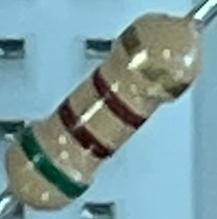Black: (53, 95, 115, 163)
Brown: (84, 66, 150, 132)
Green: (14, 124, 92, 203)
Side-Gold: (116, 23, 192, 100)
